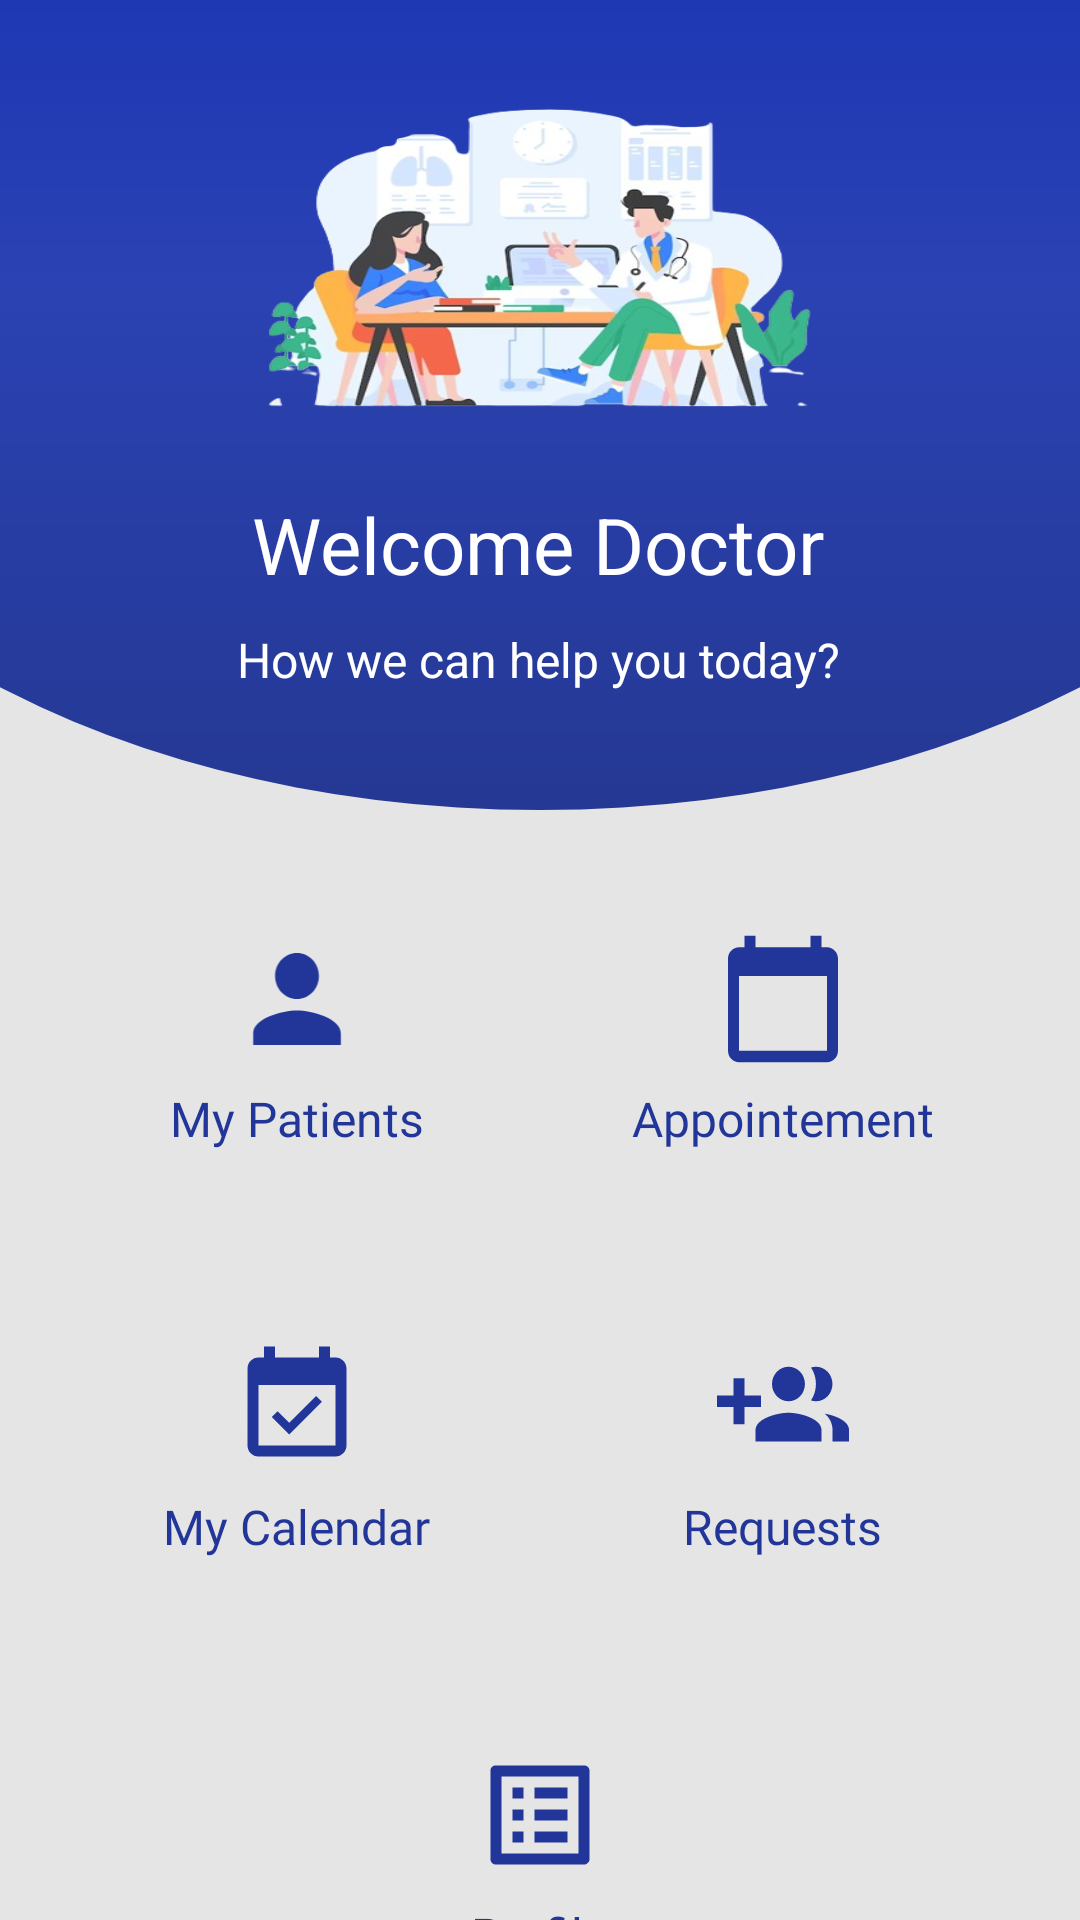

Screen size 1080*1920. Icon name, then its center in pixels as (x=x, y=y):
person: (x=297, y=999)
